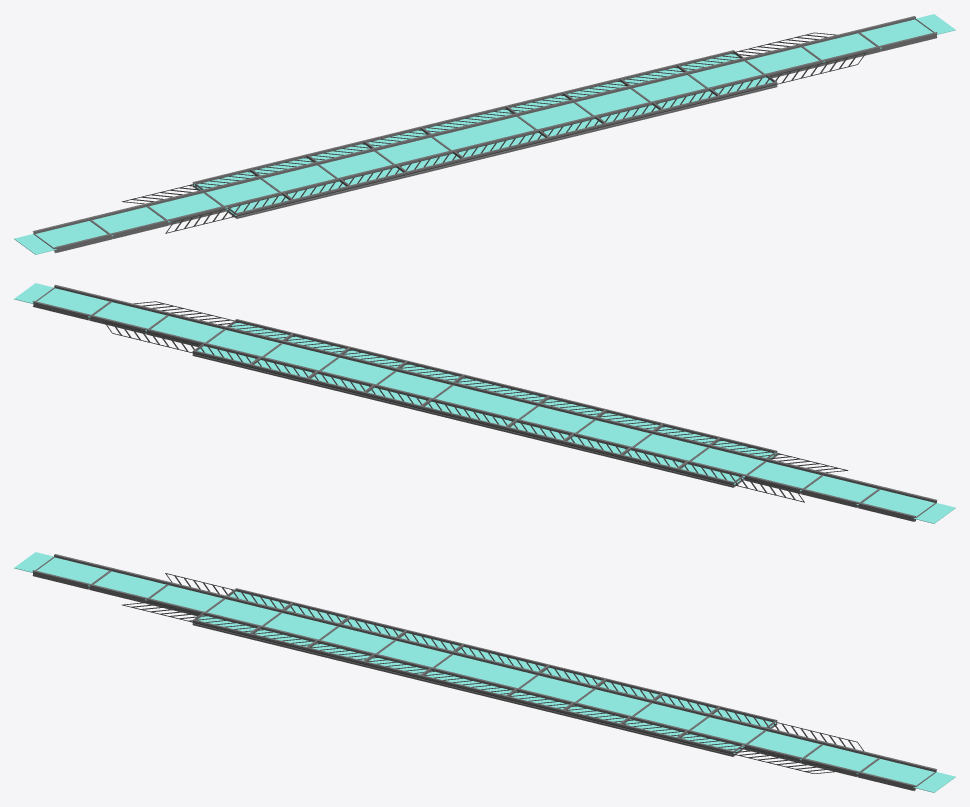
Rendered from Bridge_Upper.fbx.
3 views of the same model, one above another, from view 1: azimuth 30°, elevation 25°; view 2: azimuth 150°, elevation 25°; view 3: azimuth 330°, elevation 25° (orthographic).
Visible parts, largest first — view 1: Upper Bridge Glass Panes.001, Upper Bridge Floor Tiles.001, Upper Bridge Floor Tiles.007, Plane.366, Upper Bridge Floor Tiles.006; view 2: Upper Bridge Glass Panes.001, Upper Bridge Floor Tiles.001, Upper Bridge Floor Tiles.007, Plane.366, Upper Bridge Floor Tiles.006; view 3: Upper Bridge Glass Panes.001, Upper Bridge Floor Tiles.001, Upper Bridge Floor Tiles.007, Plane.366, Upper Bridge Floor Tiles.006.
Part boxes in pixels (<box>): Upper Bridge Glass Panes.001: <box>14,14,955,254</box>; Upper Bridge Floor Tiles.001: <box>32,16,937,253</box>; Upper Bridge Floor Tiles.007: <box>192,50,777,218</box>; Plane.366: <box>121,32,866,233</box>; Upper Bridge Floor Tiles.006: <box>421,105,549,163</box>; Upper Bridge Glass Panes.001: <box>14,283,955,523</box>; Upper Bridge Floor Tiles.001: <box>32,284,937,521</box>; Upper Bridge Floor Tiles.007: <box>192,319,777,487</box>; Plane.366: <box>103,301,848,502</box>; Upper Bridge Floor Tiles.006: <box>420,374,549,432</box>; Upper Bridge Glass Panes.001: <box>14,552,955,792</box>; Upper Bridge Floor Tiles.001: <box>32,554,937,791</box>; Upper Bridge Floor Tiles.007: <box>192,588,777,756</box>; Plane.366: <box>122,573,863,773</box>; Upper Bridge Floor Tiles.006: <box>420,643,548,701</box>.
Size of the model in its own units: 97 by 0.5 by 8.
